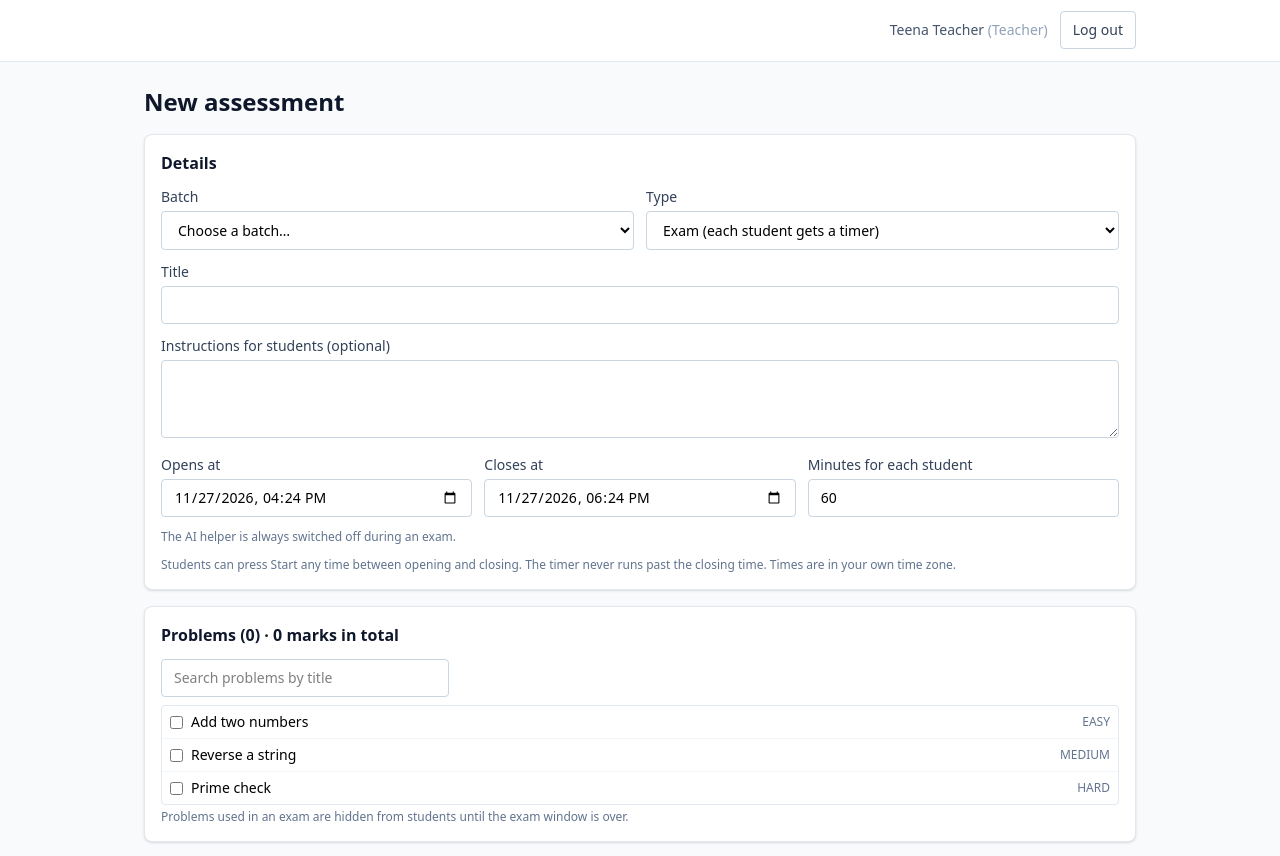
Scenario: assessment editor: creating › asks for at least one problem before talking to the server
This screenshot has width=1280, height=856.
Select "CSE Sem 3" in the dropdown labelled "Batch" at {"x": 398, "y": 230}, box [161,211,634,250]
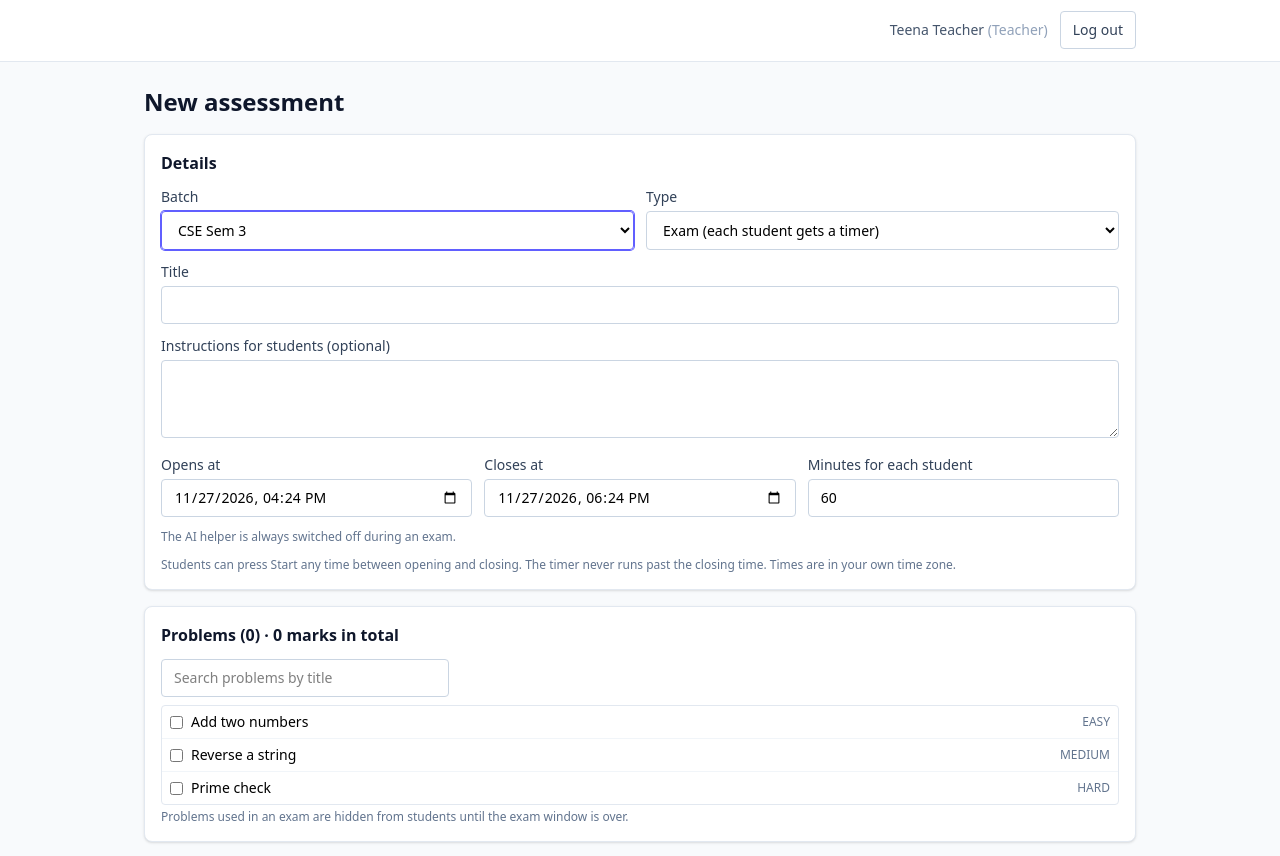
Type "Midterm" into the field labelled "Title" at {"x": 640, "y": 305}, box [161,286,1119,324]
(page scrolled)
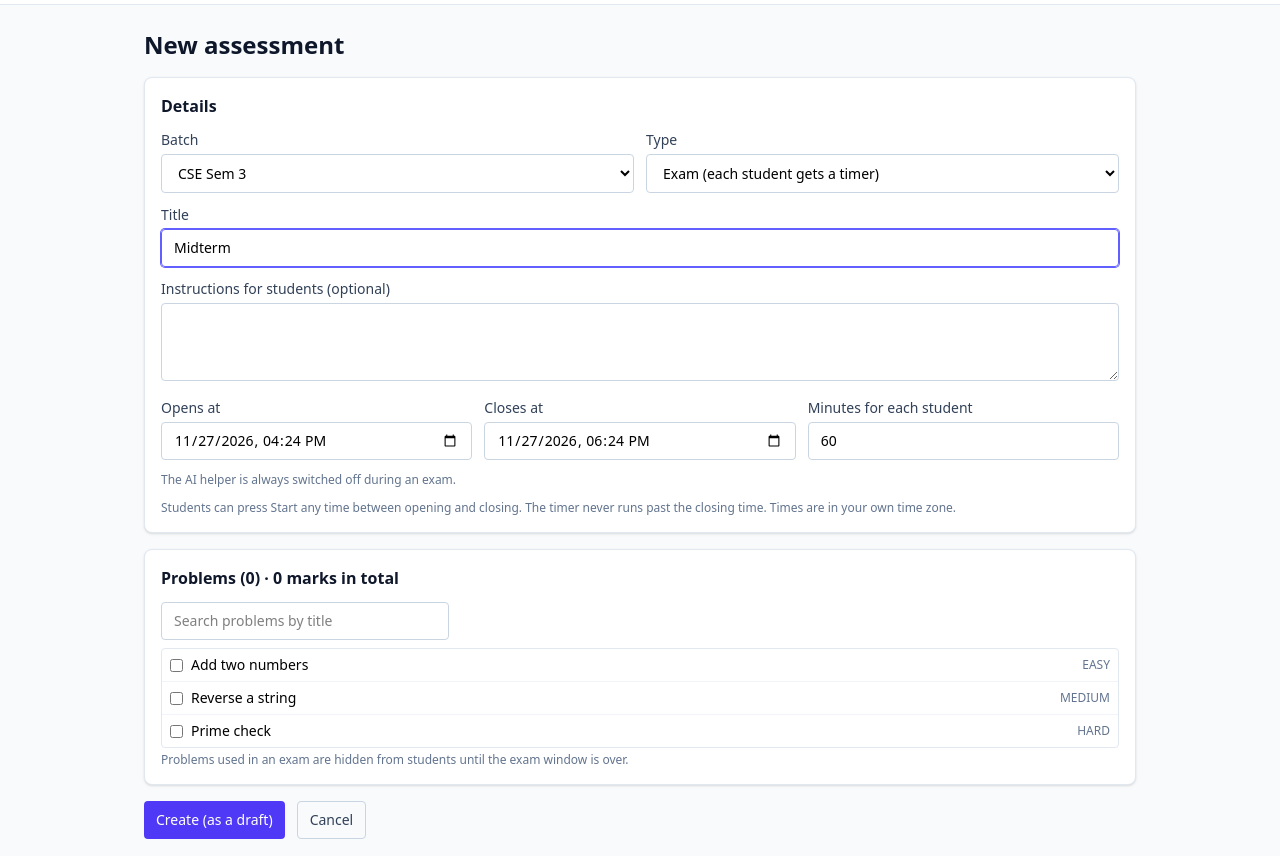
Click the button "Create (as a draft)" at {"x": 214, "y": 820}, box [144,801,285,839]
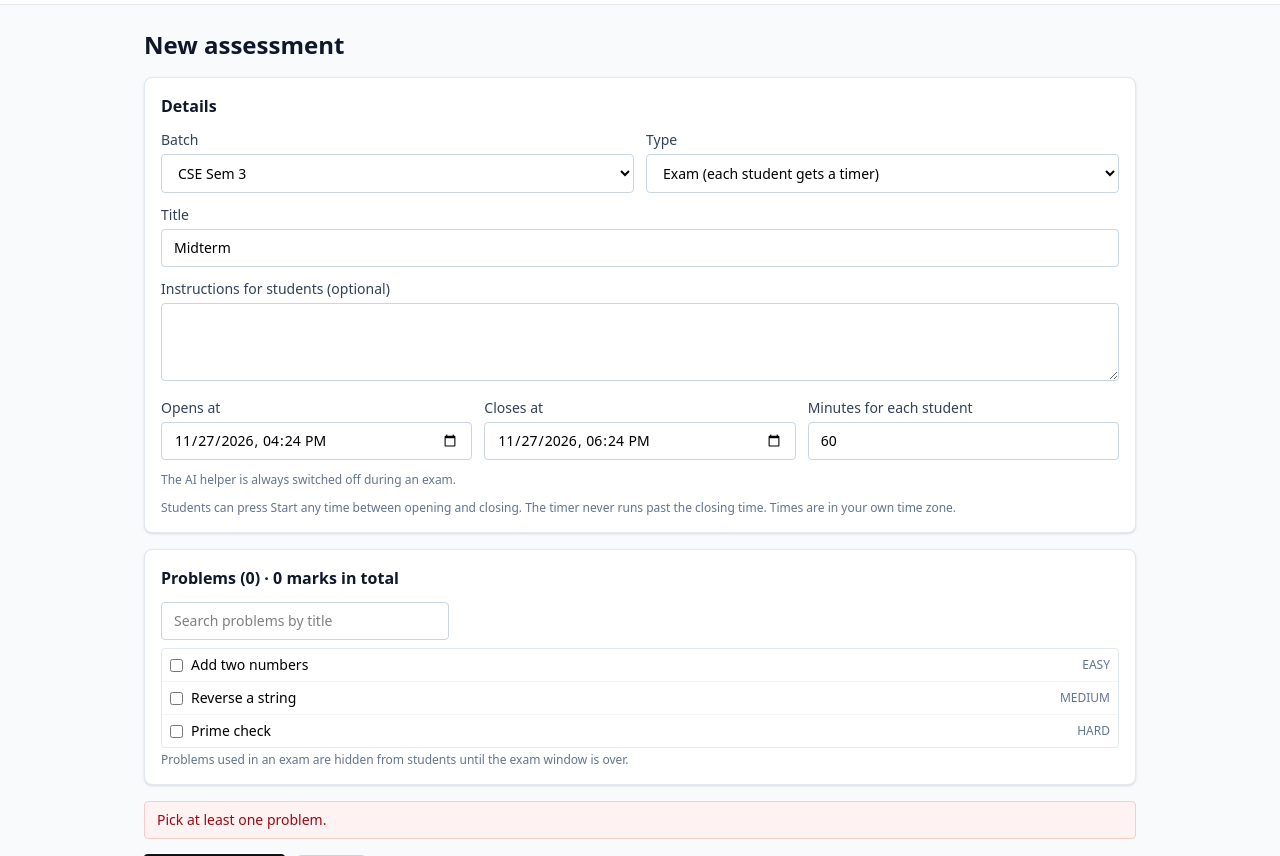
expect the message reads "Pick at least one problem.": met, box [157,810,326,829]
